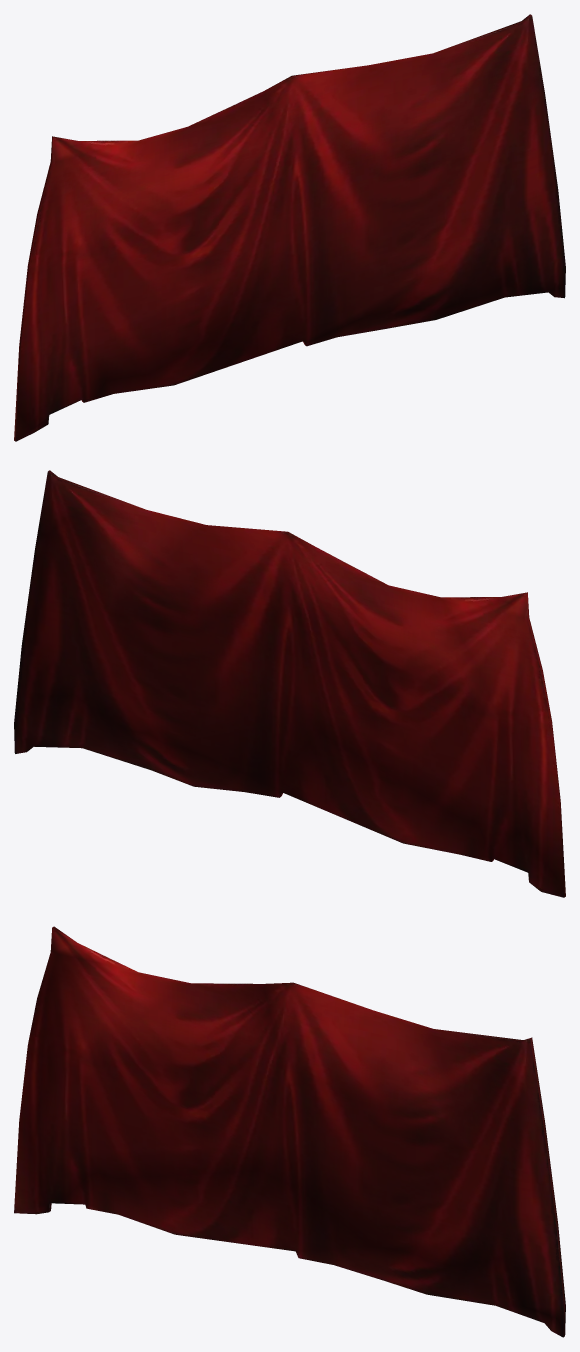
File: GS_VOB_LITTLECURTAIN_01.glb
3 renders of one model, top to bottom at view 1: azimuth 30°, elevation 25°; view 2: azimuth 150°, elevation 25°; view 3: azimuth 330°, elevation 25°, orthographic.
Parts seen in each view (by area): view 1: Mesh; view 2: Mesh; view 3: Mesh.
Boxes of the visible parts, left/top/right/bottom form: Mesh: left=14, top=14, right=565, bottom=441; Mesh: left=14, top=470, right=565, bottom=897; Mesh: left=14, top=926, right=565, bottom=1337.
Size of the model in its own units: 1.5 by 0.7817 by 0.0421.
1 material, 1 textured.
